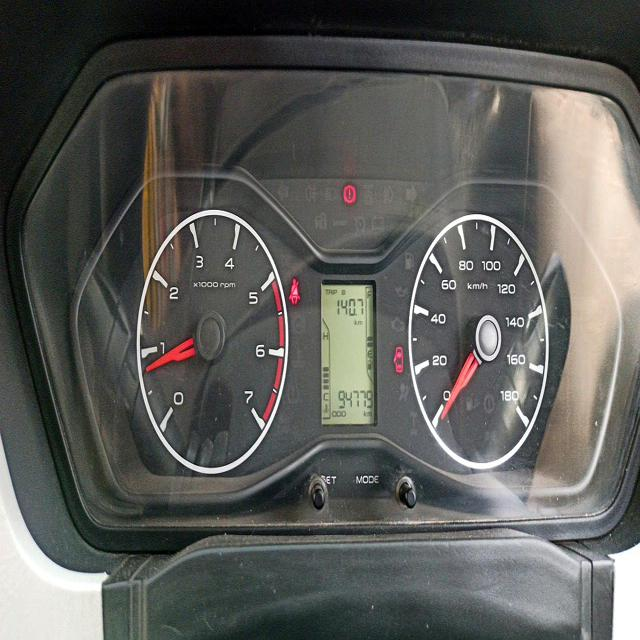odometer: (335, 386, 375, 412)
